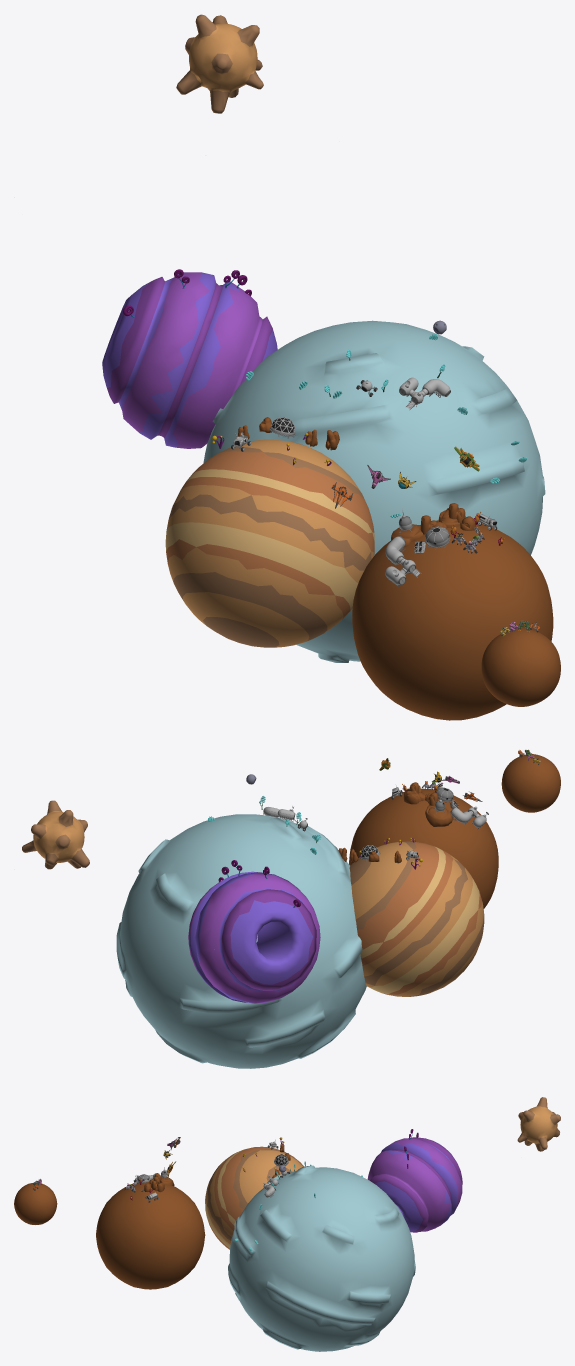
File: ultimate_space_kit.glb
3 views of the same model, one above another, from view 1: azimuth 30°, elevation 25°; view 2: azimuth 150°, elevation 25°; view 3: azimuth 270°, elevation 25° (orthographic). The views are drawn at different scales.
Visible parts, largest first — view 1: Planet_6, Planet_6.001; view 2: Planet_6; view 3: Planet_6.
Part boxes in pixels (x1=…): Planet_6: x1=102, y1=14, x2=560, y2=720; Planet_6.001: x1=331, y1=446, x2=479, y2=508; Planet_6: x1=22, y1=749, x2=560, y2=1068; Planet_6: x1=14, y1=1097, x2=560, y2=1351.
Bounding box in the file's own units: 141 × 159 × 310.
1 material, 1 textured.
